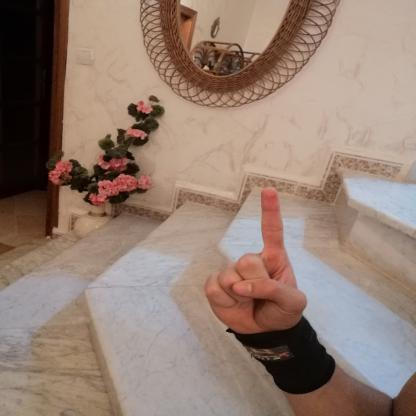BAA: (195, 181, 320, 344)
